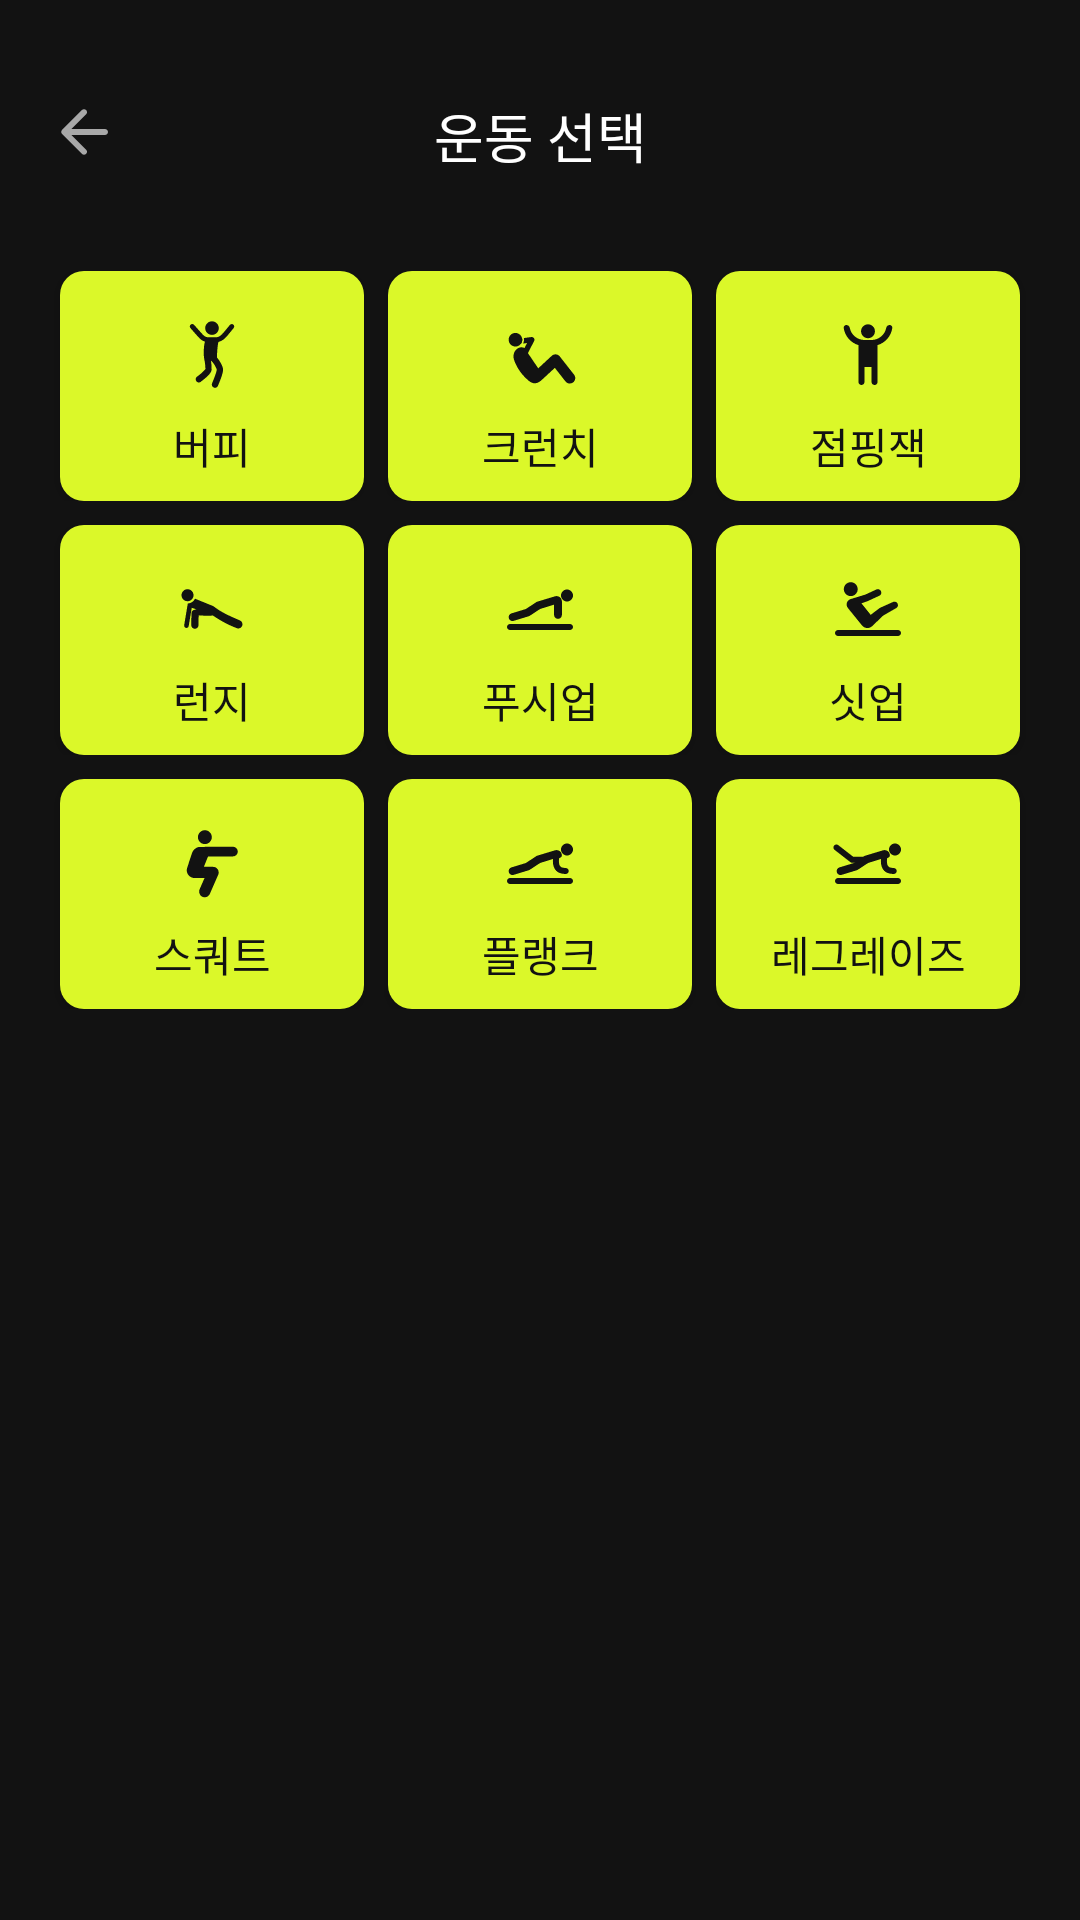

Where icons sit on this 1080px×1920px app screen, as (x1, y1, x2, y2):
arrow previous: (61, 109, 108, 155)
